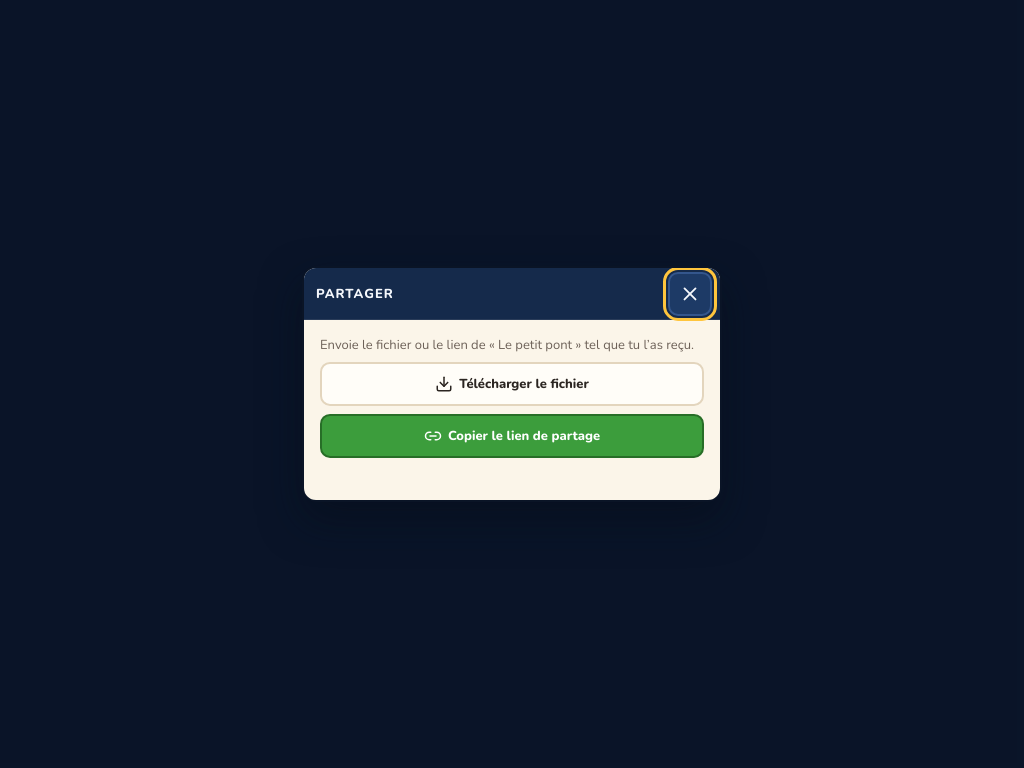
it: partager un niveau reçu (M9, ADR 0015 § Page « Mes niveaux ») › affiche le lien à sélectionner, au tutoiement, quand la copie est refusée (V7)
Click the button "Copier le lien de partage": (512, 436) 320,414 -> 704,458
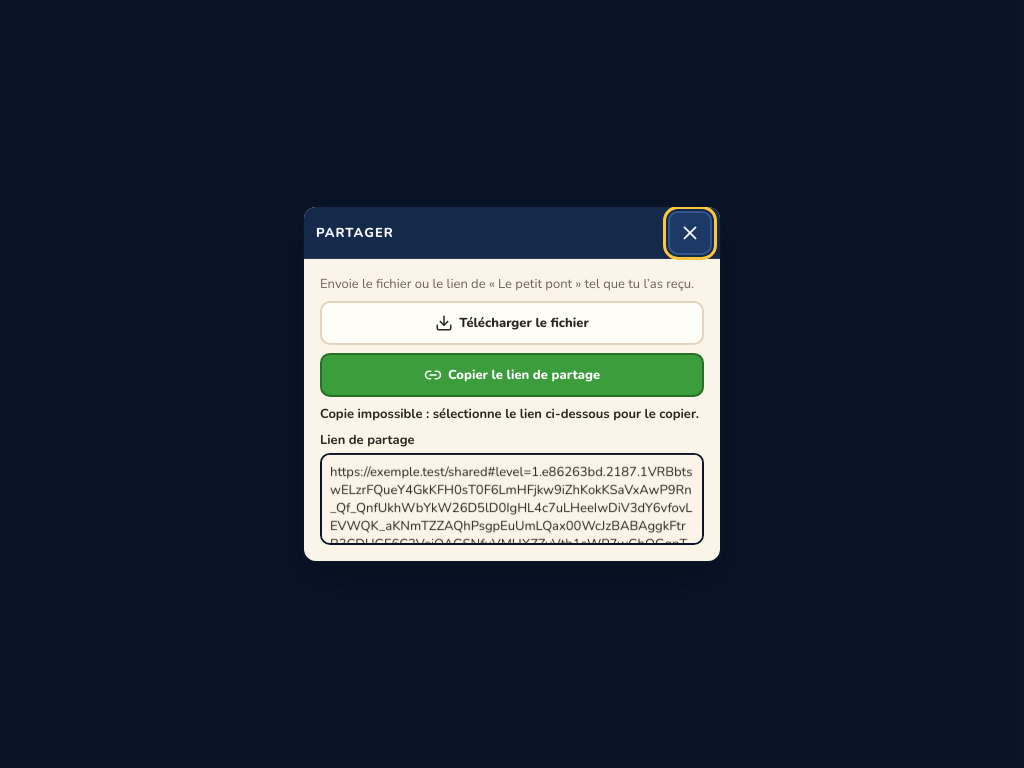
Expected: the text box labelled "Lien de partage" is shown, 320,453 -> 704,545
Expected: the message reads "Copie impossible : sélectionne le lien ci-dessous pour le copier.", 320,405 -> 699,423
